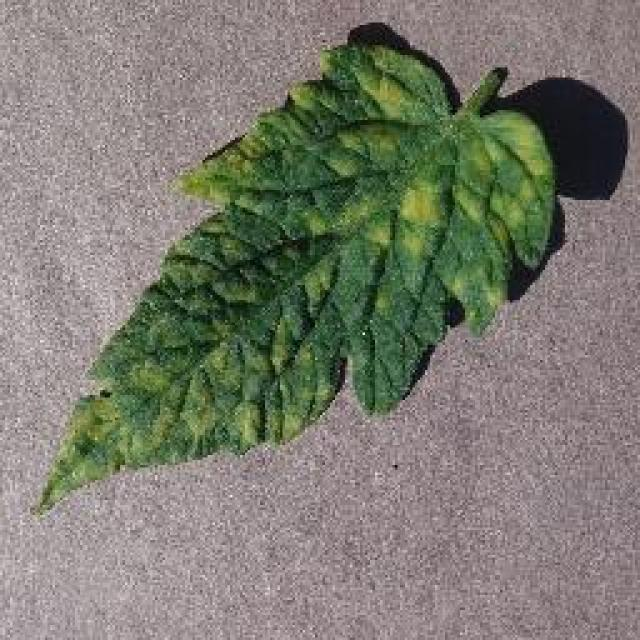leaf mold: (42, 43, 554, 502)
